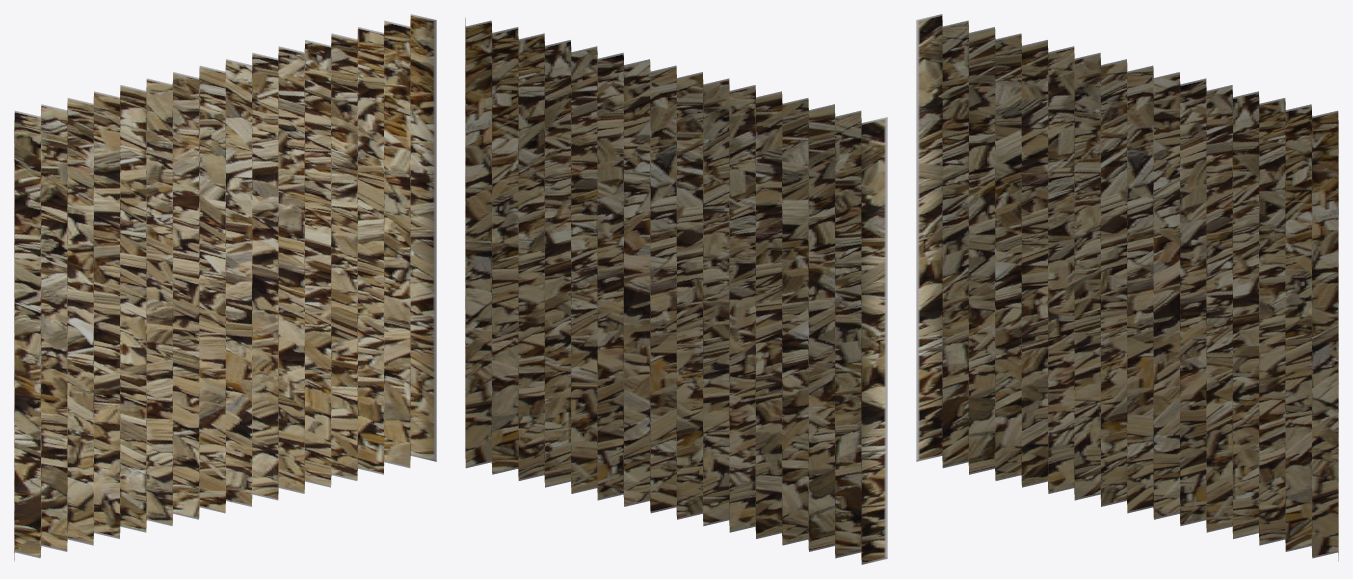
The model's file is aaa3.DAE.
3 views of the same model, side by side, from view 1: azimuth 30°, elevation 25°; view 2: azimuth 150°, elevation 25°; view 3: azimuth 330°, elevation 25° (orthographic).
Parts seen in each view (by area): view 1: pPlane1; view 2: pPlane1; view 3: pPlane1.
Part boxes in pixels (box(x1,y1,x2,y2)): pPlane1: box(14, 14, 436, 561); pPlane1: box(465, 17, 887, 564); pPlane1: box(916, 14, 1338, 561).
Bounding box in the file's own units: 8.26 × 8.26 × 0.4313.
